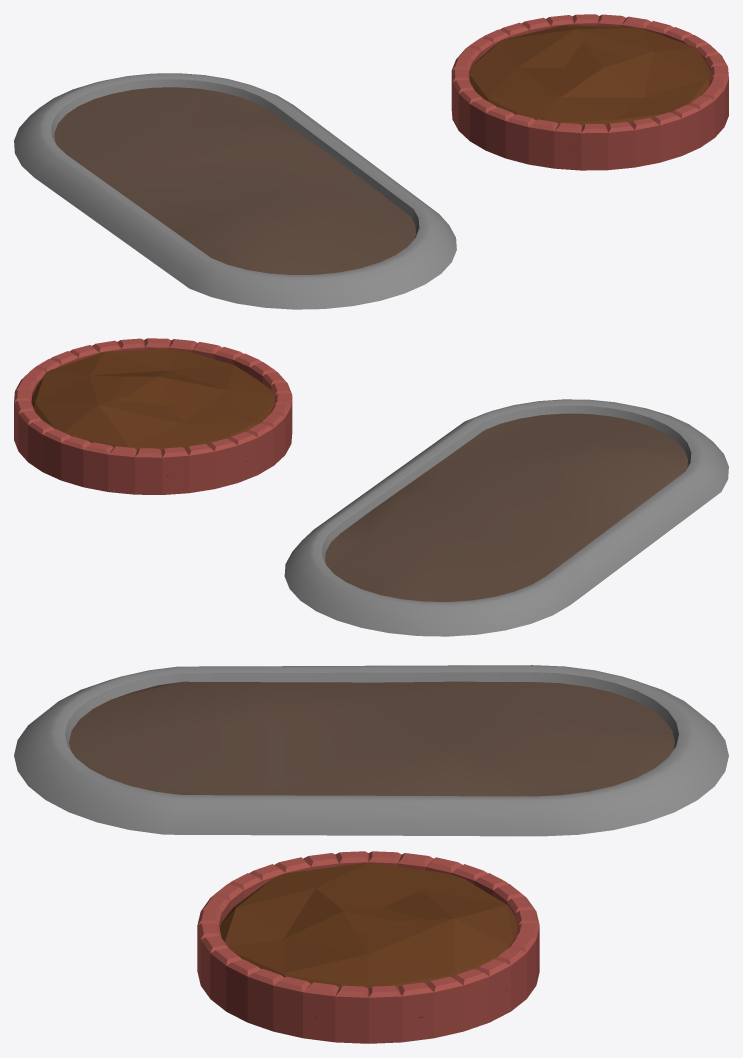
The model's file is dirt.fbx.
3 views of the same model, one above another, from view 1: azimuth 30°, elevation 25°; view 2: azimuth 150°, elevation 25°; view 3: azimuth 270°, elevation 25° (orthographic). The views are drawn at different scales.
Visible parts, largest first — view 1: Cylinder.001, Icosphere, Cylinder; view 2: Cylinder.001, Icosphere, Cylinder; view 3: Cylinder.001, Icosphere, Cylinder.
Part boxes in pixels (x1=…): Cylinder.001: x1=14, y1=73, x2=456, y2=309; Icosphere: x1=454, y1=25, x2=717, y2=151; Cylinder: x1=451, y1=14, x2=728, y2=170; Cylinder.001: x1=284, y1=399, x2=728, y2=636; Icosphere: x1=25, y1=349, x2=289, y2=476; Cylinder: x1=14, y1=338, x2=292, y2=494; Cylinder.001: x1=14, y1=665, x2=728, y2=836; Icosphere: x1=219, y1=862, x2=517, y2=1017; Cylinder: x1=197, y1=851, x2=539, y2=1043.
Size of the model in its own units: 487 by 54.92 by 404.
